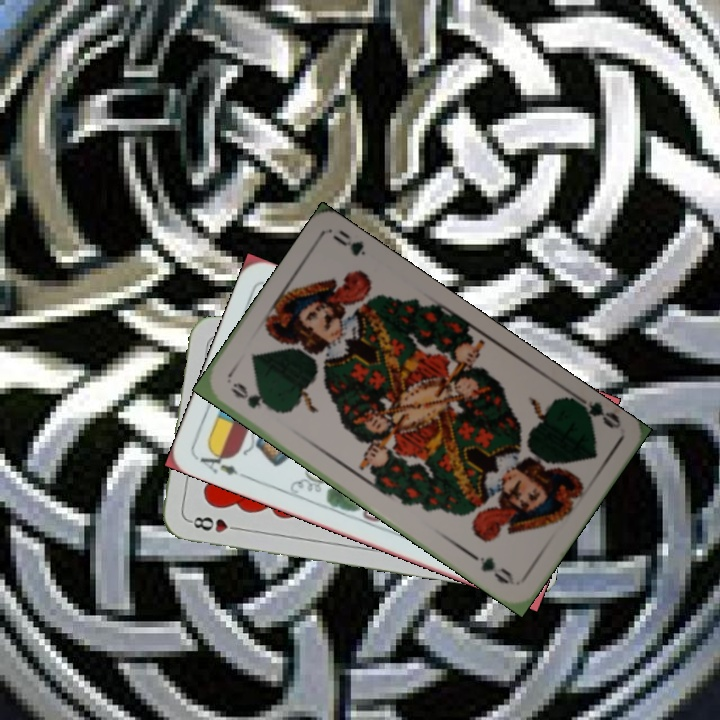EA: (196, 444, 251, 481)
GO: (569, 390, 624, 432), (227, 378, 279, 415)
H8: (185, 512, 244, 535)
